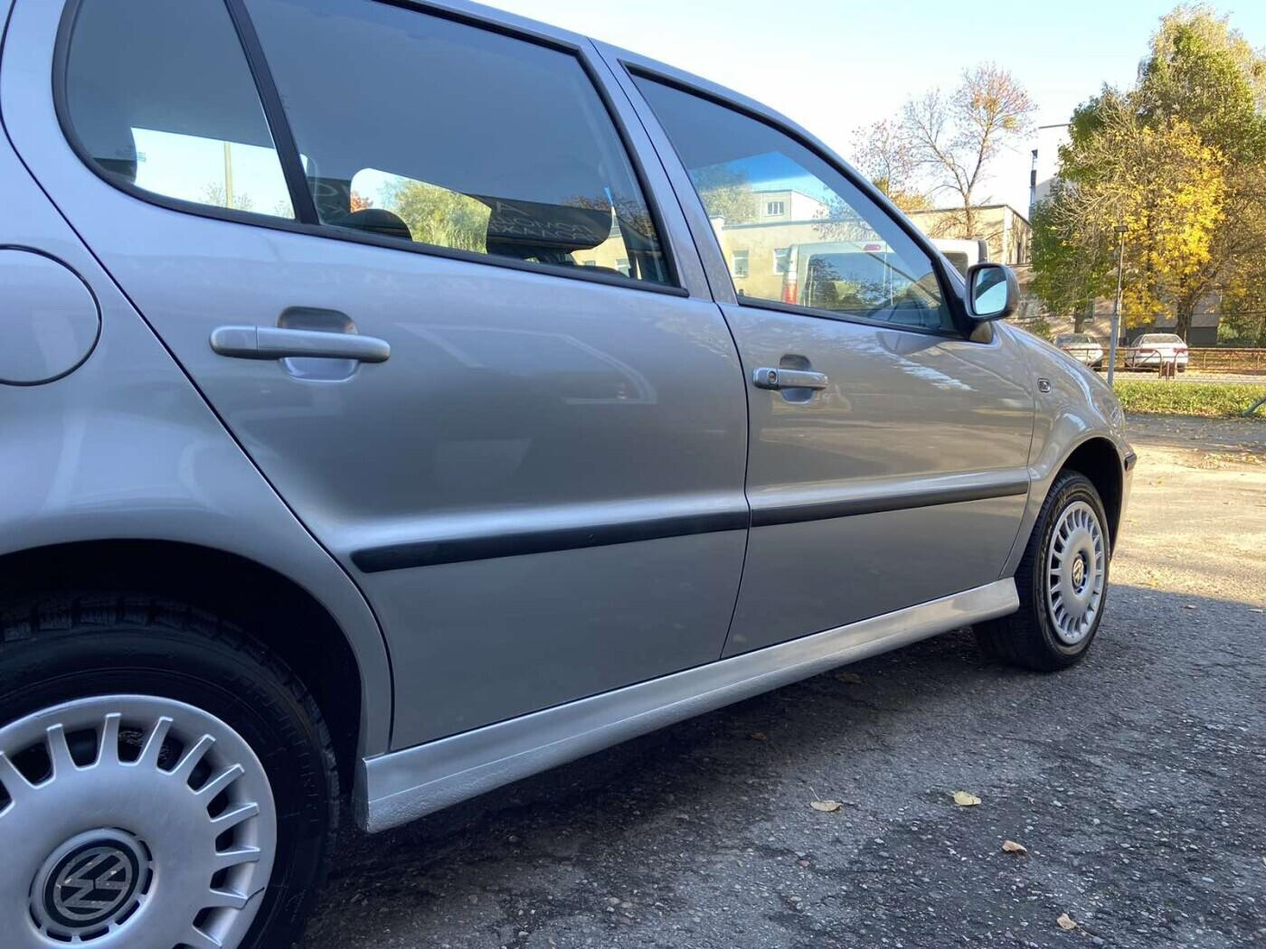Polo_2000-2002: (0, 2, 1150, 949)
